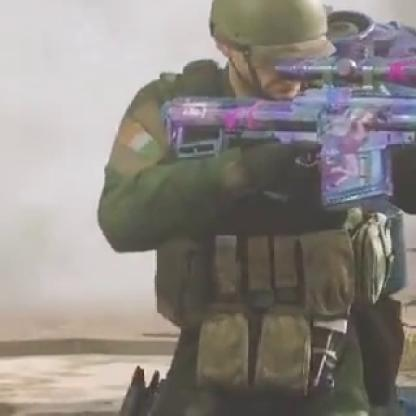enemy: (92, 0, 407, 408)
